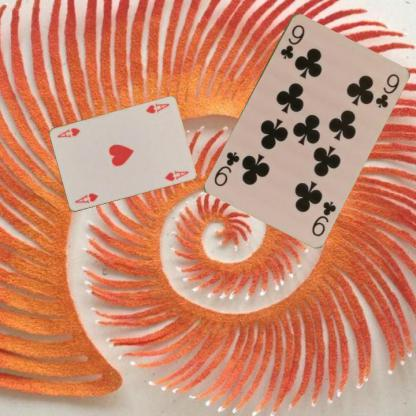9c: (308, 198, 338, 238), (277, 21, 306, 60)
Ah: (72, 191, 100, 205), (144, 101, 170, 115)
